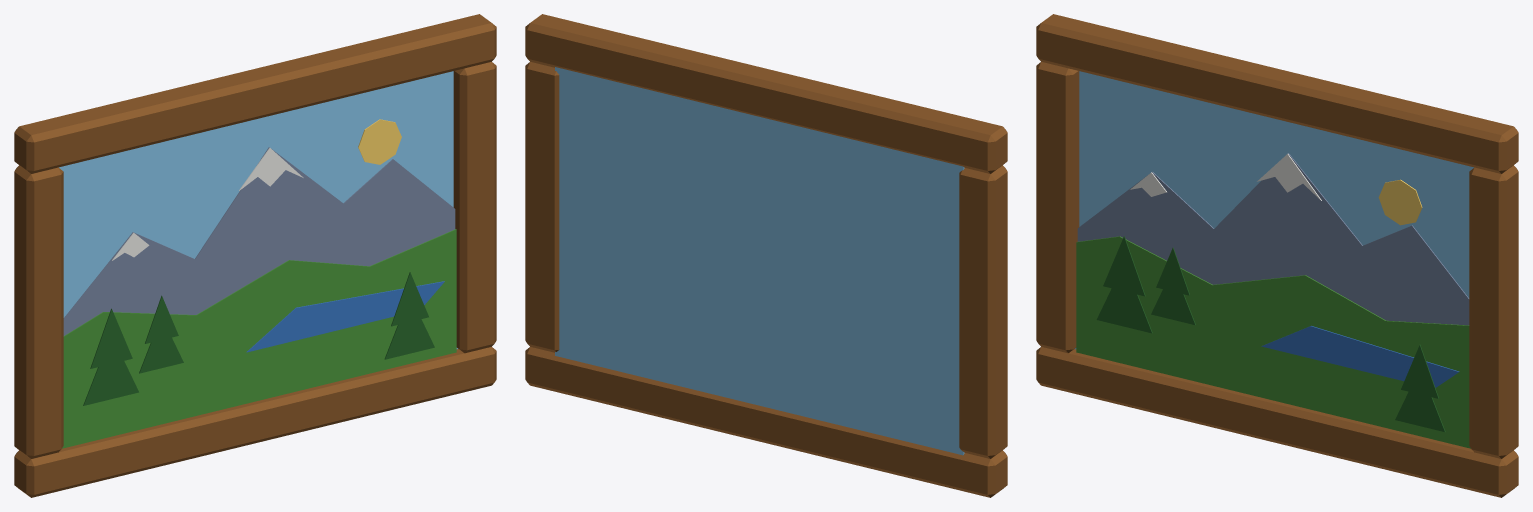
The model's file is Prop_PaintingLandscape.fbx.
3 renders of one model, left to right at view 1: azimuth 30°, elevation 25°; view 2: azimuth 150°, elevation 25°; view 3: azimuth 330°, elevation 25°, orthographic.
Visible parts, largest first — view 1: Prop_PaintingLandscape; view 2: Prop_PaintingLandscape; view 3: Prop_PaintingLandscape.
Boxes of the visible parts, bbox=[...] form: Prop_PaintingLandscape: bbox=[14, 14, 496, 497]; Prop_PaintingLandscape: bbox=[525, 14, 1007, 497]; Prop_PaintingLandscape: bbox=[1036, 14, 1518, 497].
Bounding box in the file's own units: 0.76 × 0.56 × 0.05.
